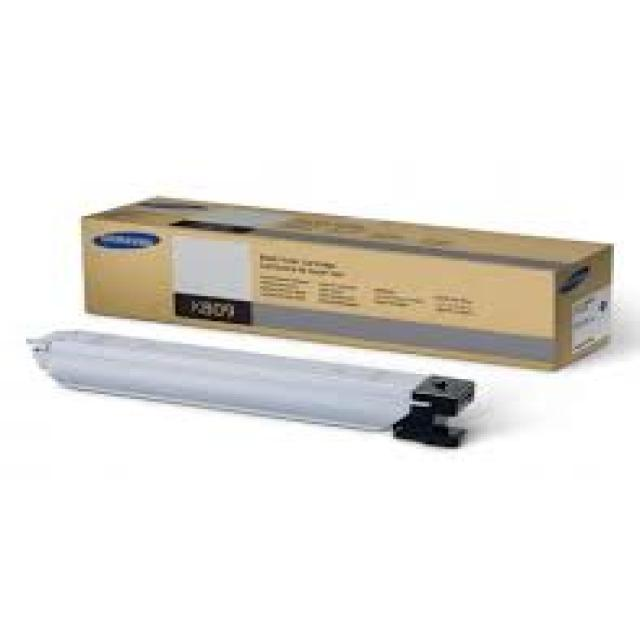printer: (25, 326, 482, 448)
